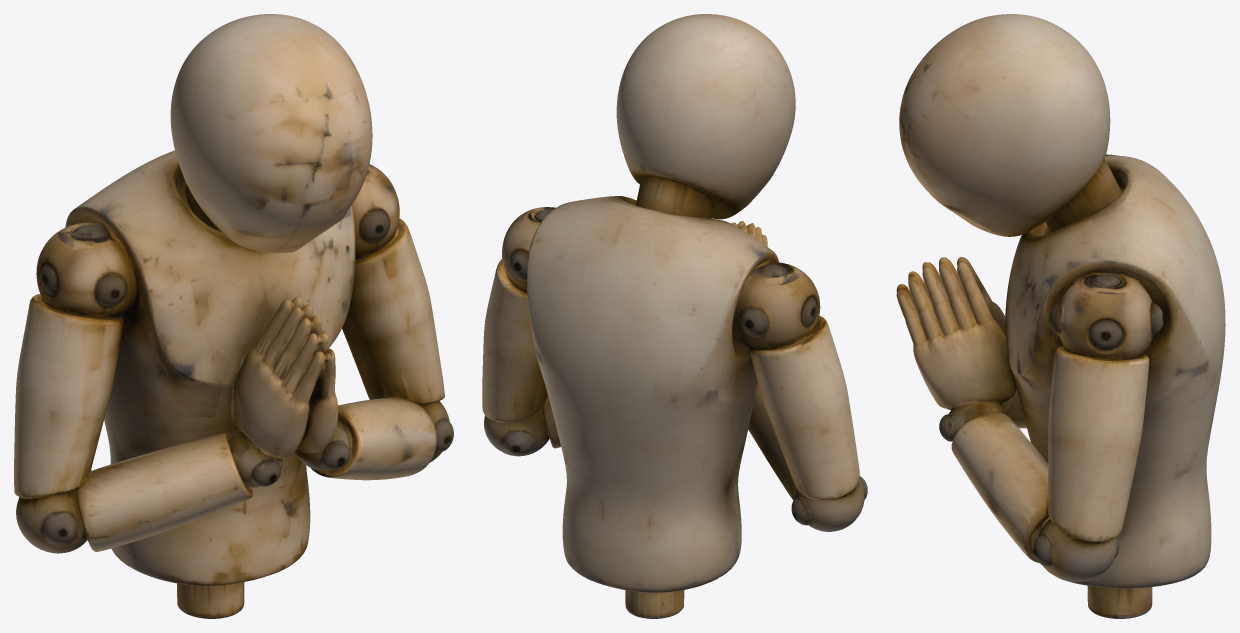
File: MANEQUIN_UP.fbx
3 renders of one model, left to right at view 1: azimuth 30°, elevation 25°; view 2: azimuth 150°, elevation 25°; view 3: azimuth 270°, elevation 25°, orthographic. The views are drawn at different scales.
Visible parts, largest first — view 1: node_0; view 2: node_0; view 3: node_0.
Boxes of the visible parts, x1,y1,x2,y2 form: node_0: (14,14,453,618); node_0: (482,14,867,618); node_0: (896,14,1225,618).
Size of the model in its own units: 82.06 by 117 by 59.13.
Materials: 1 (1 with a texture image).
